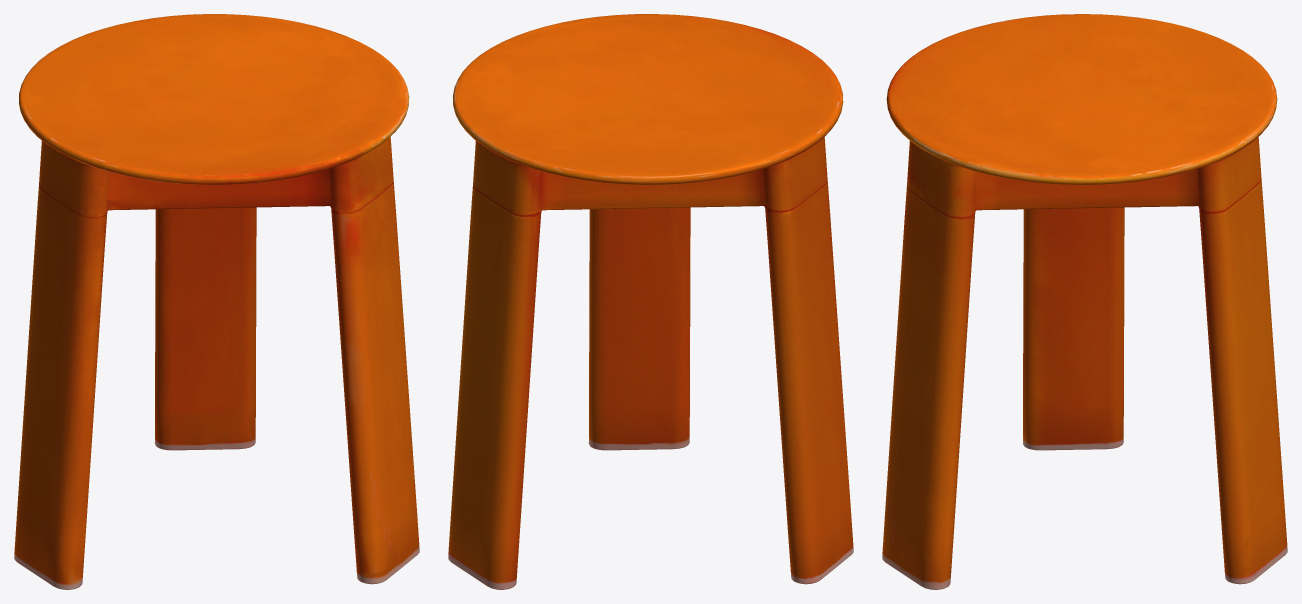
The picture shows the model from 3 angles, left to right: view 1: azimuth 30°, elevation 25°; view 2: azimuth 150°, elevation 25°; view 3: azimuth 270°, elevation 25°; orthographic projection.
Visible parts, largest first — view 1: 41_final; view 2: 41_final; view 3: 41_final.
Boxes of the visible parts, <box> form: 41_final: <box>14,14,419,589</box>; 41_final: <box>448,14,853,589</box>; 41_final: <box>882,14,1287,589</box>.
Bounding box in the file's own units: 0.3403 × 0.3972 × 0.3376.
1 material, 1 textured.
